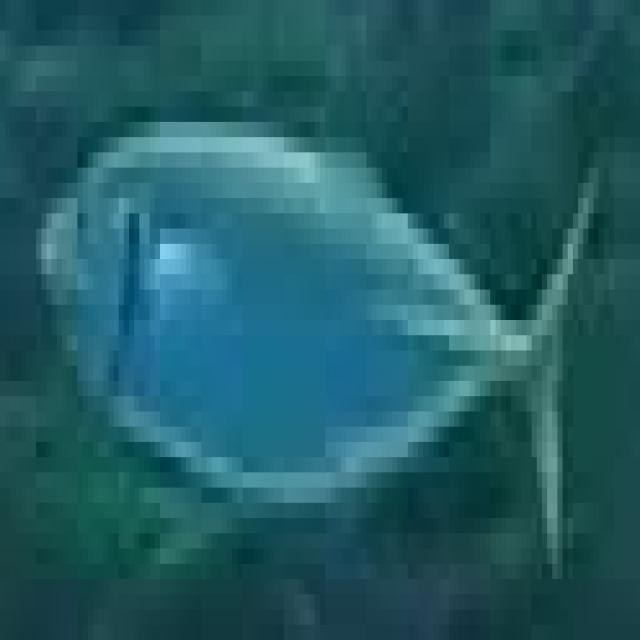fish: (0, 15, 635, 640)
